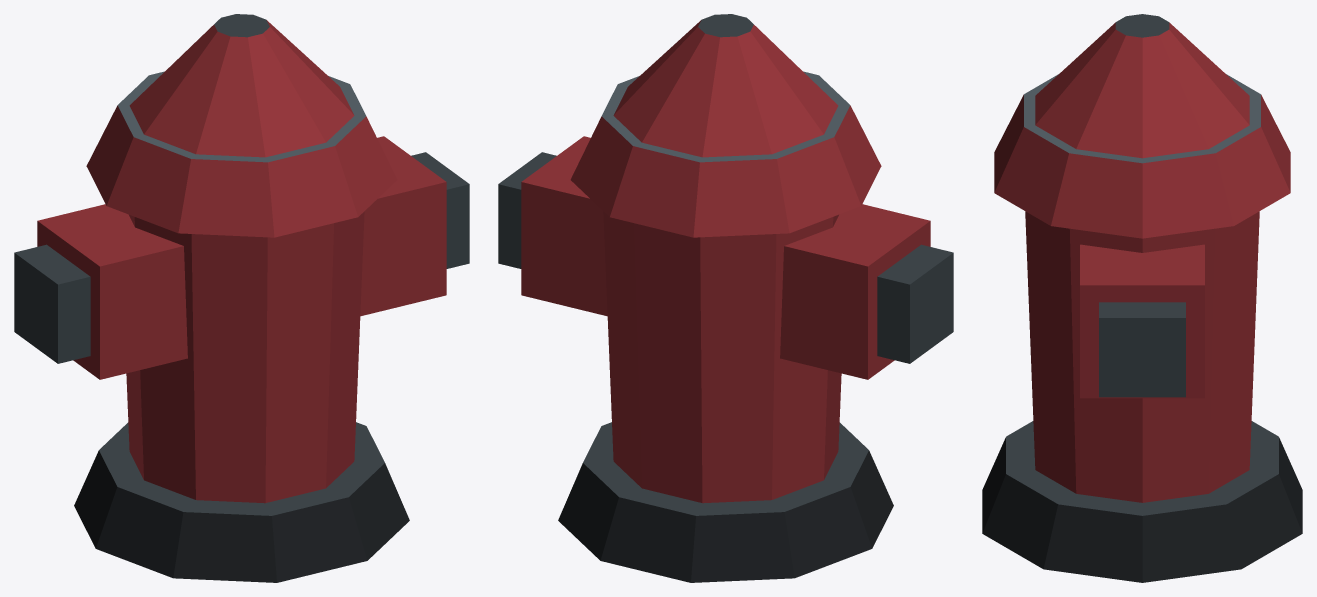
File: lp_fire_hydrant.glb
3 views of the same model, side by side, from view 1: azimuth 30°, elevation 25°; view 2: azimuth 150°, elevation 25°; view 3: azimuth 270°, elevation 25° (orthographic).
Parts seen in each view (by area): view 1: lp_fire_hydrant; view 2: lp_fire_hydrant; view 3: lp_fire_hydrant.
Boxes of the visible parts, x1=… form: lp_fire_hydrant: x1=14, y1=14, x2=469, y2=582; lp_fire_hydrant: x1=498, y1=14, x2=953, y2=582; lp_fire_hydrant: x1=982, y1=14, x2=1302, y2=582.
Size of the model in its own units: 0.76 by 0.86 by 0.5136.
Materials: 1 (1 with a texture image).
